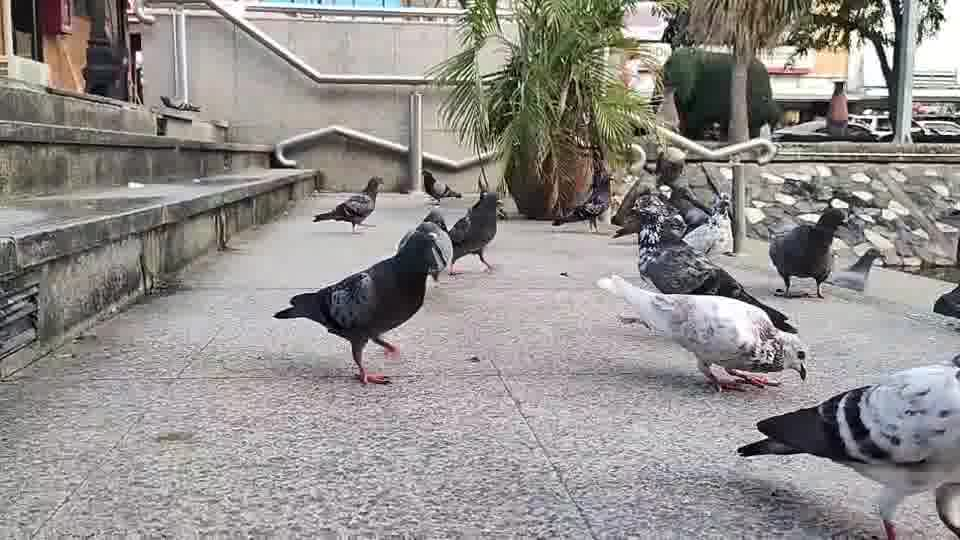Pigeon: (736, 351, 959, 539), (271, 219, 454, 386), (595, 271, 807, 393), (631, 192, 799, 334), (766, 206, 848, 299), (446, 189, 502, 275), (311, 175, 384, 233), (829, 247, 886, 292), (551, 191, 608, 233), (420, 168, 462, 205), (932, 281, 959, 320), (159, 94, 200, 112)
